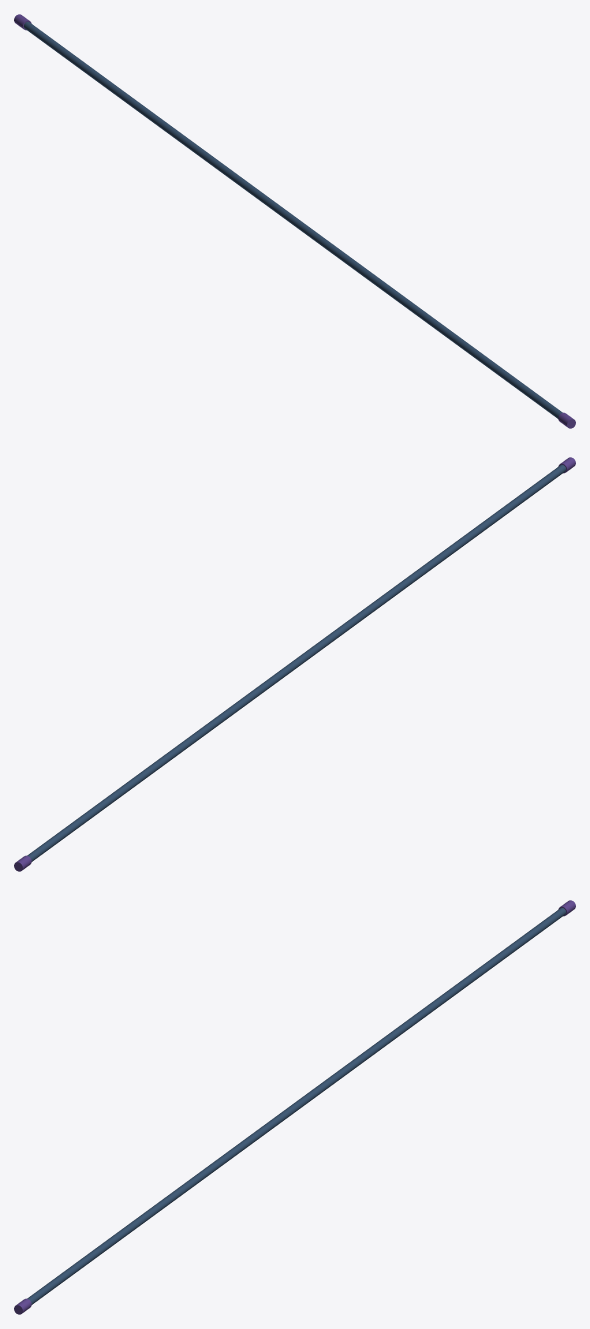
Rendered from pipeEdited (1).fbx.
3 renders of one model, top to bottom at view 1: azimuth 30°, elevation 25°; view 2: azimuth 150°, elevation 25°; view 3: azimuth 330°, elevation 25°, orthographic.
Visible parts, largest first — view 1: pipeEdited__1_; view 2: pipeEdited__1_; view 3: pipeEdited__1_.
Boxes of the visible parts, x1=… form: pipeEdited__1_: x1=14, y1=14, x2=575, y2=428; pipeEdited__1_: x1=14, y1=457, x2=575, y2=871; pipeEdited__1_: x1=14, y1=900, x2=575, y2=1314.
Size of the model in its own units: 57.2 by 57.2 by 6100.
1 material, 1 textured.
